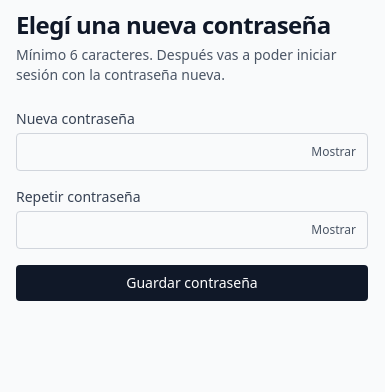
Test: ResetPasswordPage · elegir la nueva contraseña › same_password de GoTrue: pide una contraseña distinta, no la de requisitos
The width and height of the screenshot is (385, 392).
Type "nueva123" into the password field labelled "Nueva contraseña".
click(192, 152); type("nueva123")  # box [16,133,368,171]
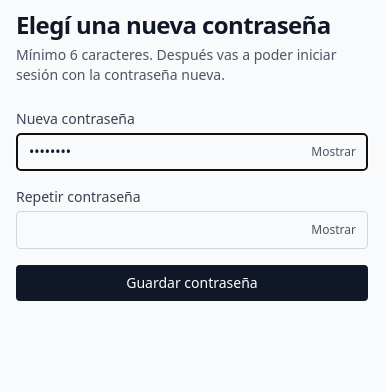
Type "nueva123" into the password field labelled "Repetir contraseña".
click(192, 230); type("nueva123")  # box [16,211,368,249]
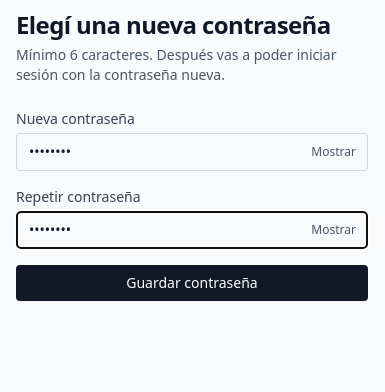
Click the button "Guardar contraseña".
click(192, 283)  # box [16,265,368,301]
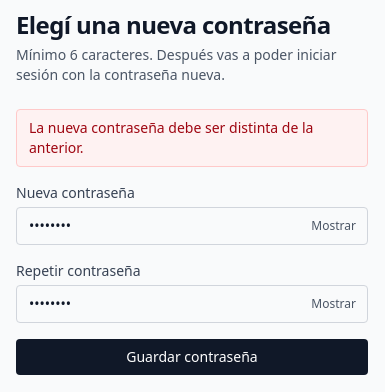
Result: the text "La nueva contraseña debe ser distinta de la anterior." is shown at [16,109,368,167]
